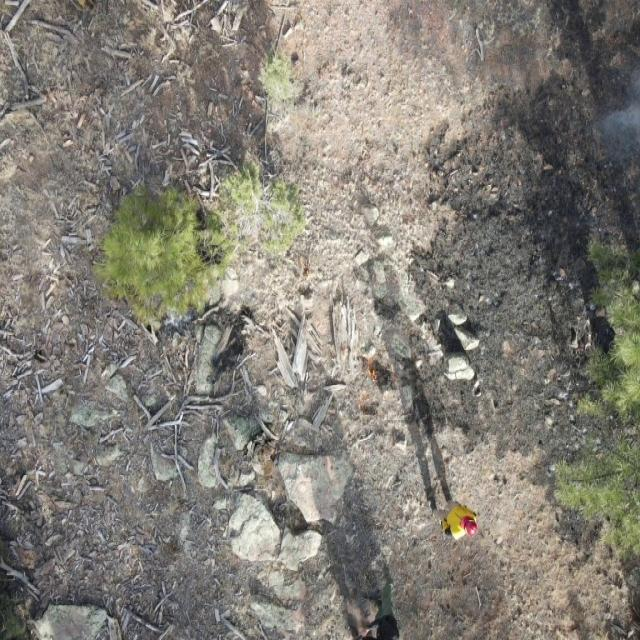fire: (359, 356, 380, 384), (358, 393, 368, 411)
smoke: (596, 61, 640, 160)
